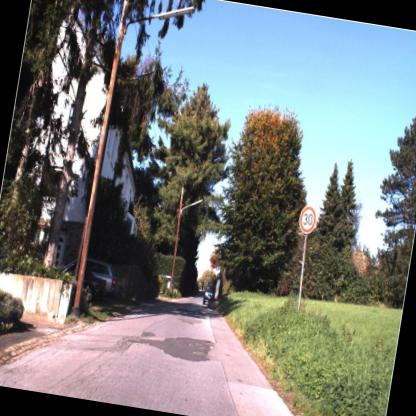prohibitory: (294, 201, 322, 241)
